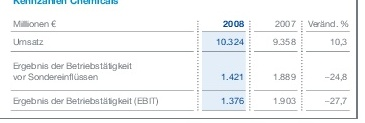table: (0, 0, 365, 123)
